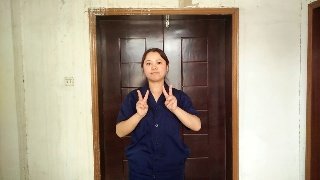hand: (162, 84, 177, 112), (136, 89, 149, 117)
